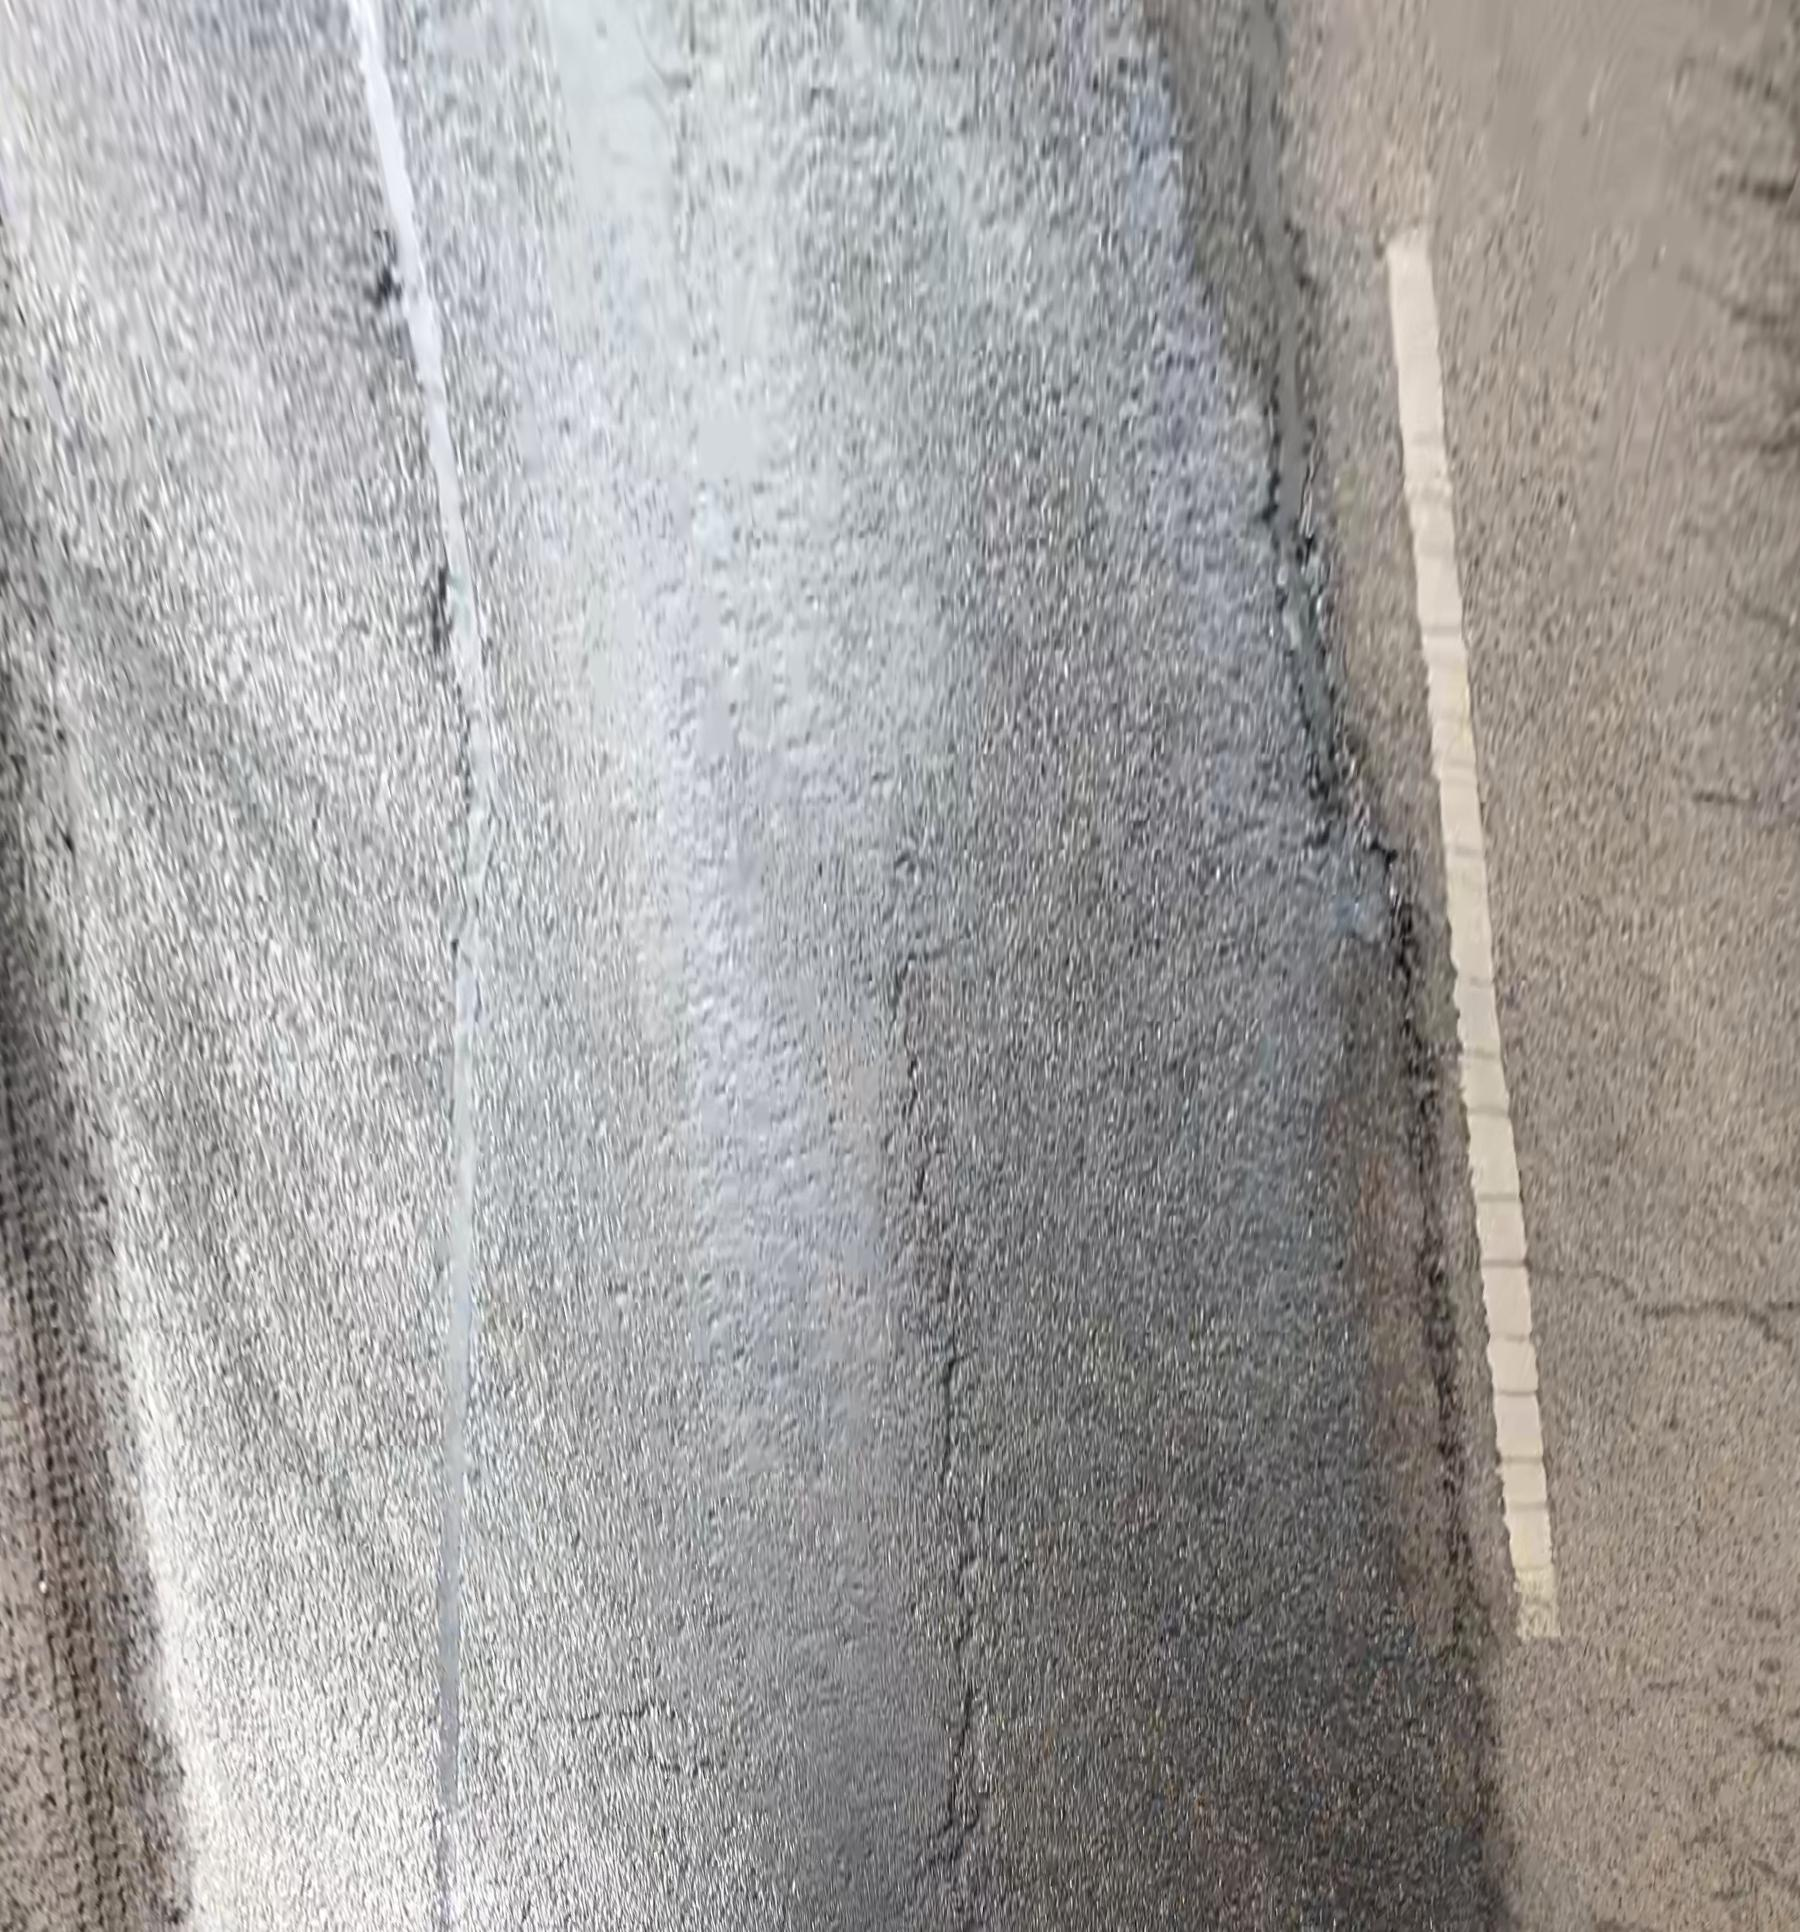pothole: (411, 557, 497, 799), (362, 255, 426, 347)
